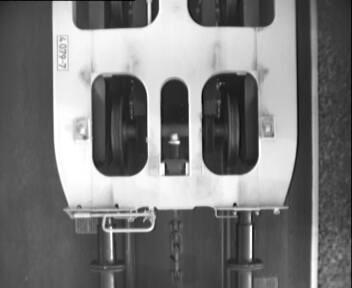twist_lock_2: (84, 68, 264, 181)
